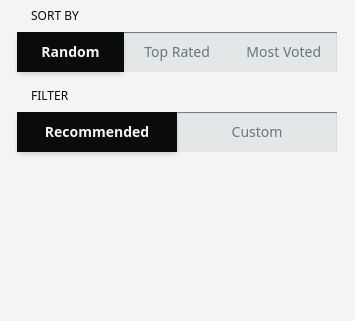
DiscoverControls — filter interaction › switching to 'Custom' reveals the slider panel
The image size is (355, 321).
Click the button "Custom". click: (257, 132)
box: [177,112,337,152]
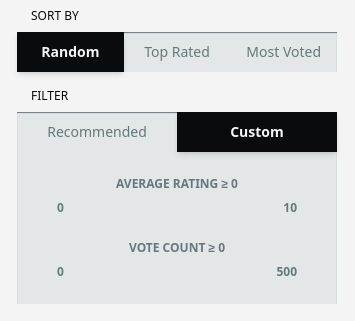
Check: the text "Average Rating ≥ 0" is shown, box [116,176,238,192]
Check: the text "Vote Count ≥ 0" is shown, box [129,240,225,256]
